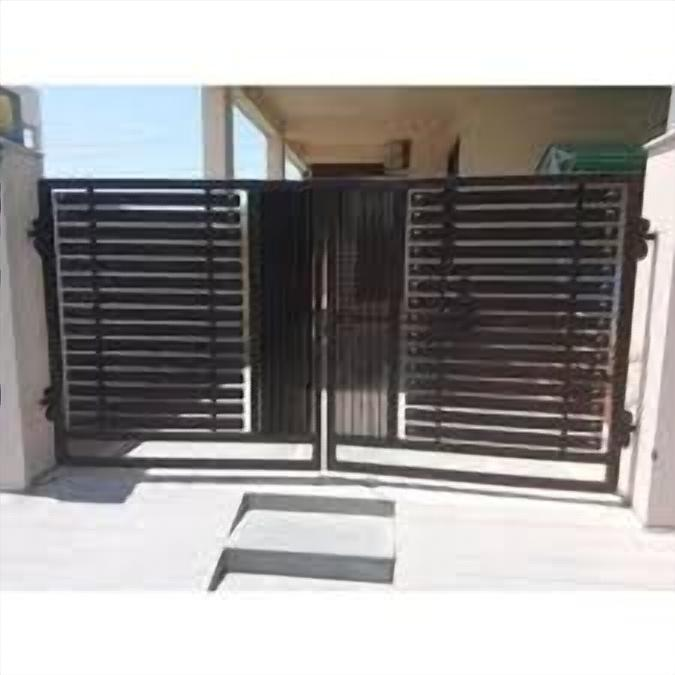Gate: (33, 173, 649, 495)
